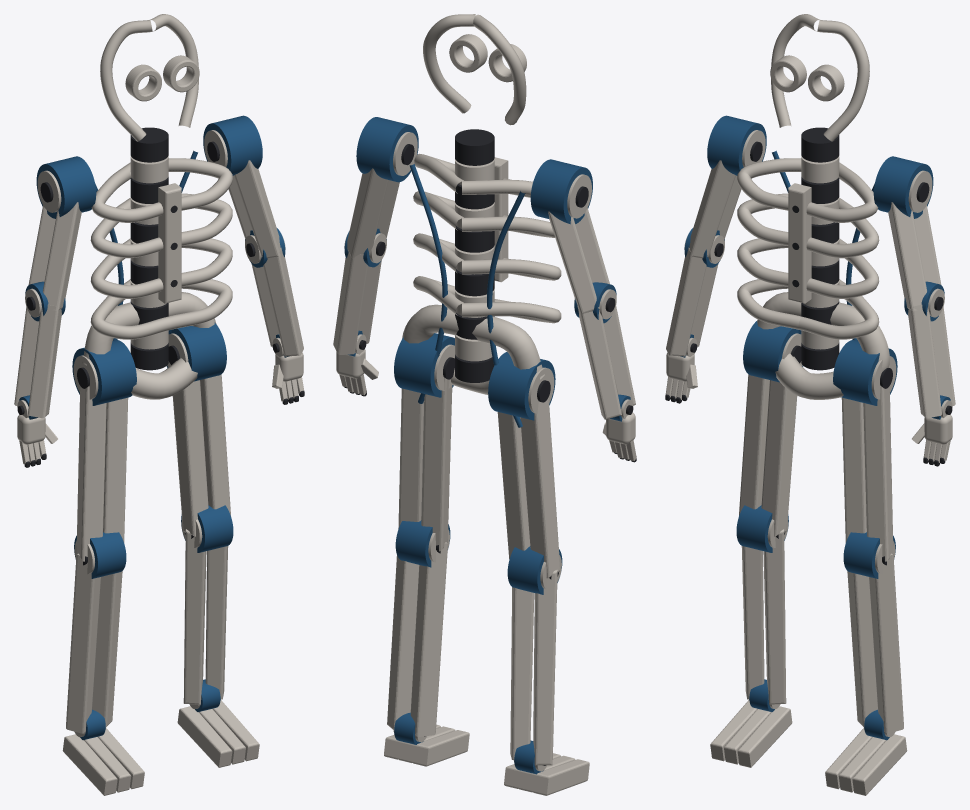
File: anatomy-56.glb
3 renders of one model, left to right at view 1: azimuth 30°, elevation 25°; view 2: azimuth 150°, elevation 25°; view 3: azimuth 330°, elevation 25°, orthographic. The views are drawn at different scales.
Parts seen in each view (by area): view 1: legs, joints, arms, rib, feet, spine, skull, pelvis, hands, sternum; view 2: legs, joints, arms, rib, spine, skull, feet, pelvis, hands, cables, sternum; view 3: legs, joints, arms, rib, feet, spine, skull, pelvis, hands, sternum.
Part boxes in pixels (box(x1,y1,x2,y2)): legs: box(66, 364, 230, 733); joints: box(17, 115, 289, 740); arms: box(14, 160, 303, 418); rib: box(90, 158, 232, 339); feet: box(62, 700, 259, 795); spine: box(130, 127, 168, 370); skull: box(100, 14, 199, 141); pelvis: box(82, 292, 216, 399); hands: box(17, 352, 304, 467); sternum: box(158, 183, 181, 303); legs: box(387, 377, 560, 765); joints: box(344, 117, 633, 774); arms: box(333, 168, 635, 419); rib: box(413, 153, 561, 323); spine: box(455, 129, 494, 382); skull: box(423, 14, 526, 125); feet: box(384, 724, 589, 795); pelvis: box(402, 304, 544, 394); hands: box(336, 349, 636, 462); cables: box(409, 164, 525, 427); sternum: box(494, 157, 508, 282); legs: box(739, 374, 903, 733); joints: box(680, 115, 952, 740); arms: box(666, 160, 955, 418); rib: box(737, 158, 879, 339); feet: box(710, 700, 907, 795); spine: box(801, 127, 839, 370); skull: box(770, 14, 869, 141); pelvis: box(757, 292, 889, 399); hands: box(665, 352, 952, 466); sternum: box(788, 183, 811, 303).
Size of the model in its own units: 1.59 by 3.97 by 0.4704.
